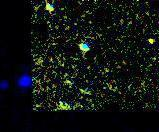star: (137, 26, 159, 56)
